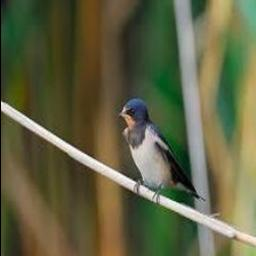Swallow: (115, 99, 205, 203)
